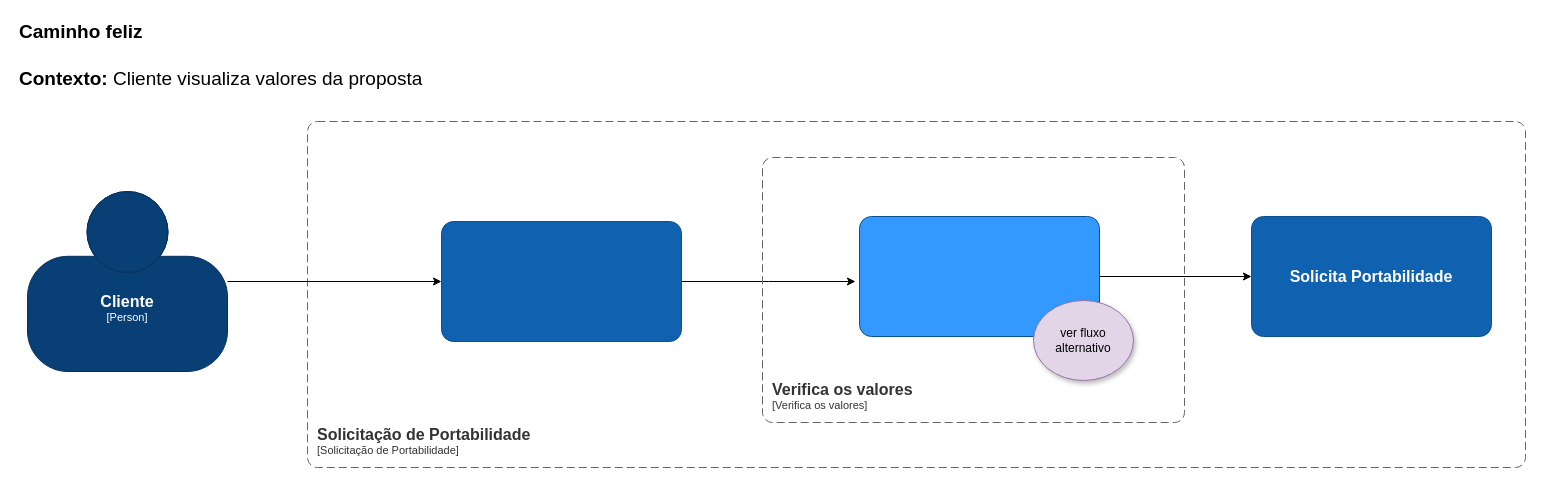
The diagram is 1543 pixels wide and 485 high, and some of its shapes have lost their labels. Here are the shapes that lost their labels. From the top down, the centre of each, then its label:
At [561,281]: "Seleciona contrato".
At [979,276]: "Visualiza valores da proposta [PROPONENTE]".
